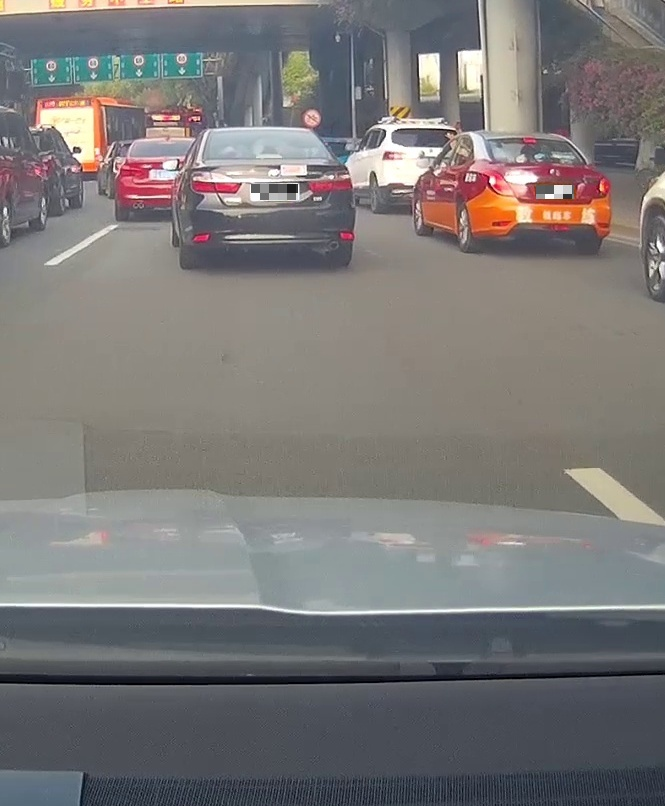L_light: (191, 171, 242, 193), (479, 169, 516, 197)
R_light: (308, 171, 352, 192), (591, 175, 610, 199)
T_light: (255, 153, 283, 159), (522, 137, 537, 143)
day-brake: (477, 131, 610, 253)
day-no: (184, 127, 355, 269)
plate_1: (251, 184, 298, 200)
plate_2: (536, 185, 574, 199)
